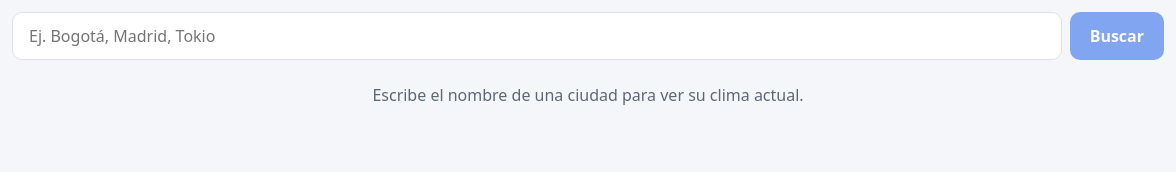
WeatherApp › indica que está cargando mientras espera la respuesta
Type "Lima" into the field named "ciudad". click: [537, 36]
box: [12,12,1062,60]
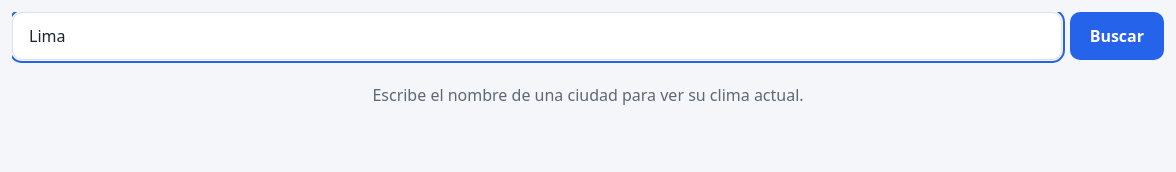
Click the button "Buscar". click: [1117, 36]
box: [1070,12,1164,60]
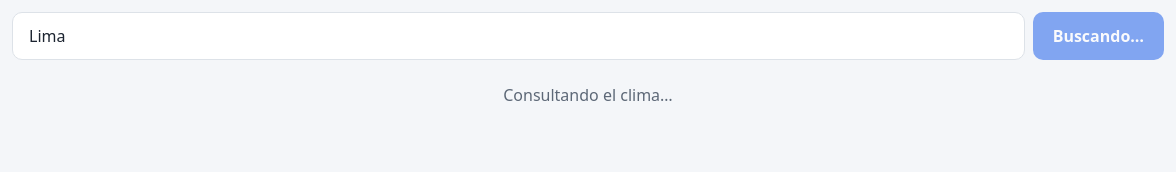
Now the text "Consultando el clima…" is shown, box [503,84,673,106]
Now the button "Buscando…" is disabled, box [1033,12,1164,60]
